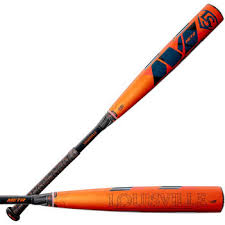baseball bat: (5, 4, 224, 221), (1, 186, 223, 213)
